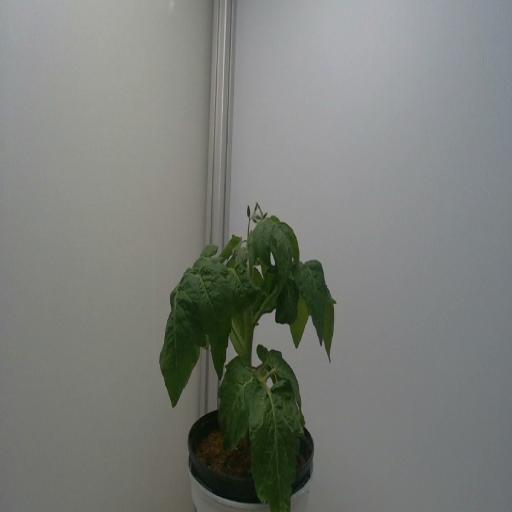Tomato-Leaves-Cupboard-: (252, 384, 304, 512), (152, 278, 192, 415), (218, 360, 268, 461), (192, 249, 230, 381), (301, 261, 328, 350), (222, 234, 250, 314), (256, 344, 296, 384), (275, 210, 293, 284), (273, 284, 298, 330), (253, 222, 274, 272), (327, 290, 339, 377), (284, 219, 300, 260)
